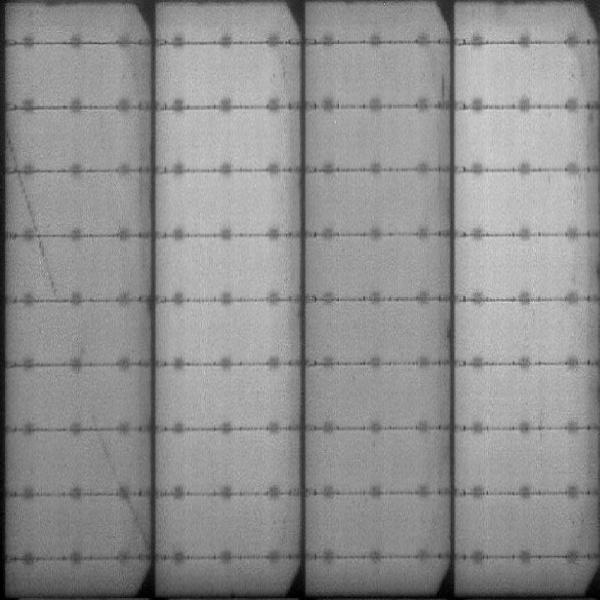scratch: (93, 437, 133, 489), (14, 174, 47, 232), (35, 239, 61, 289), (123, 500, 146, 549), (6, 133, 35, 168)
